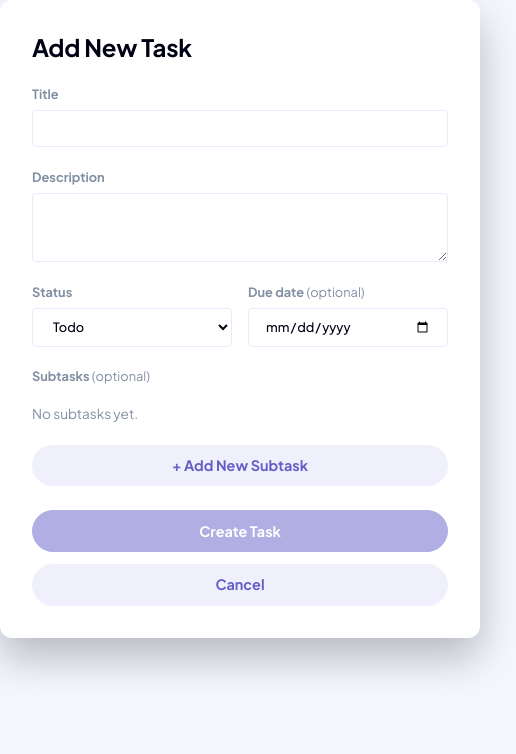
Test: TaskFormComponent › validation UI › shows the duplicate-title message when the control carries that error
Type "Fix the bug" into the field with id "task-title".
click(240, 129); type("Fix the bug")  # box 32,110 -> 448,147
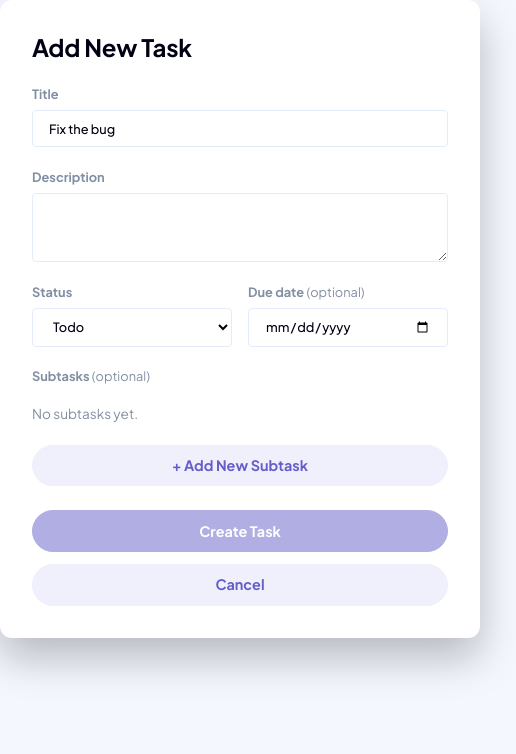
Leave the field with id "task-title", box 32,110 -> 448,147
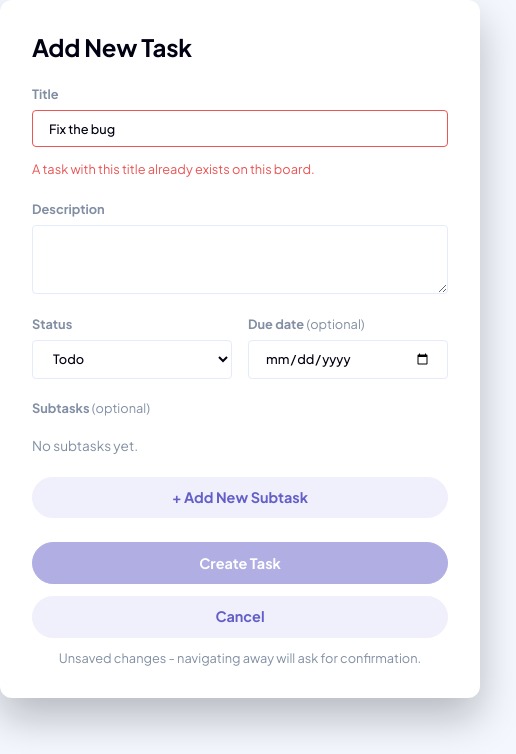
Result: the message with id "task-title-error" shows "already exists" at 32,161 -> 315,177
